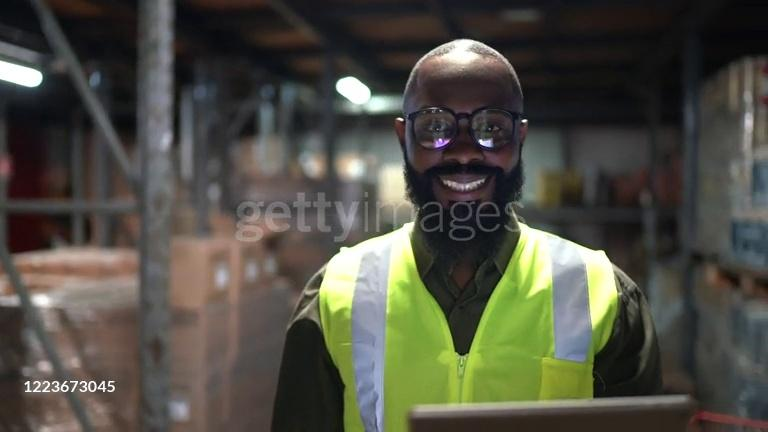person: (268, 39, 665, 432)
